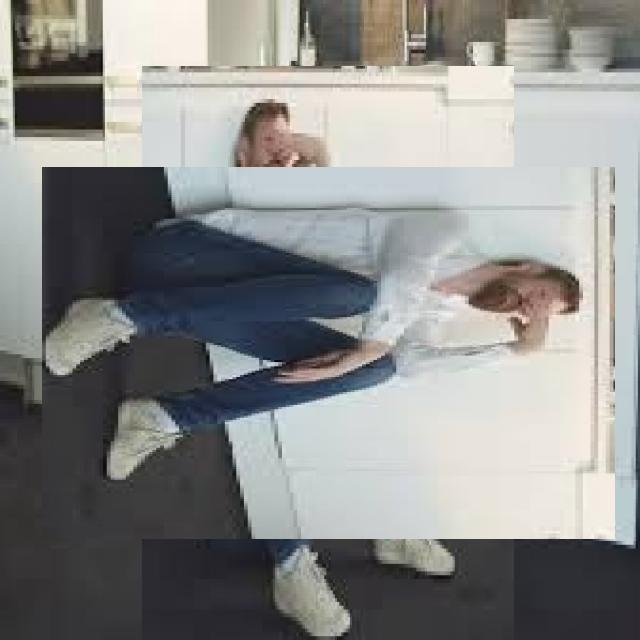NotFall: (97, 193, 573, 474)
